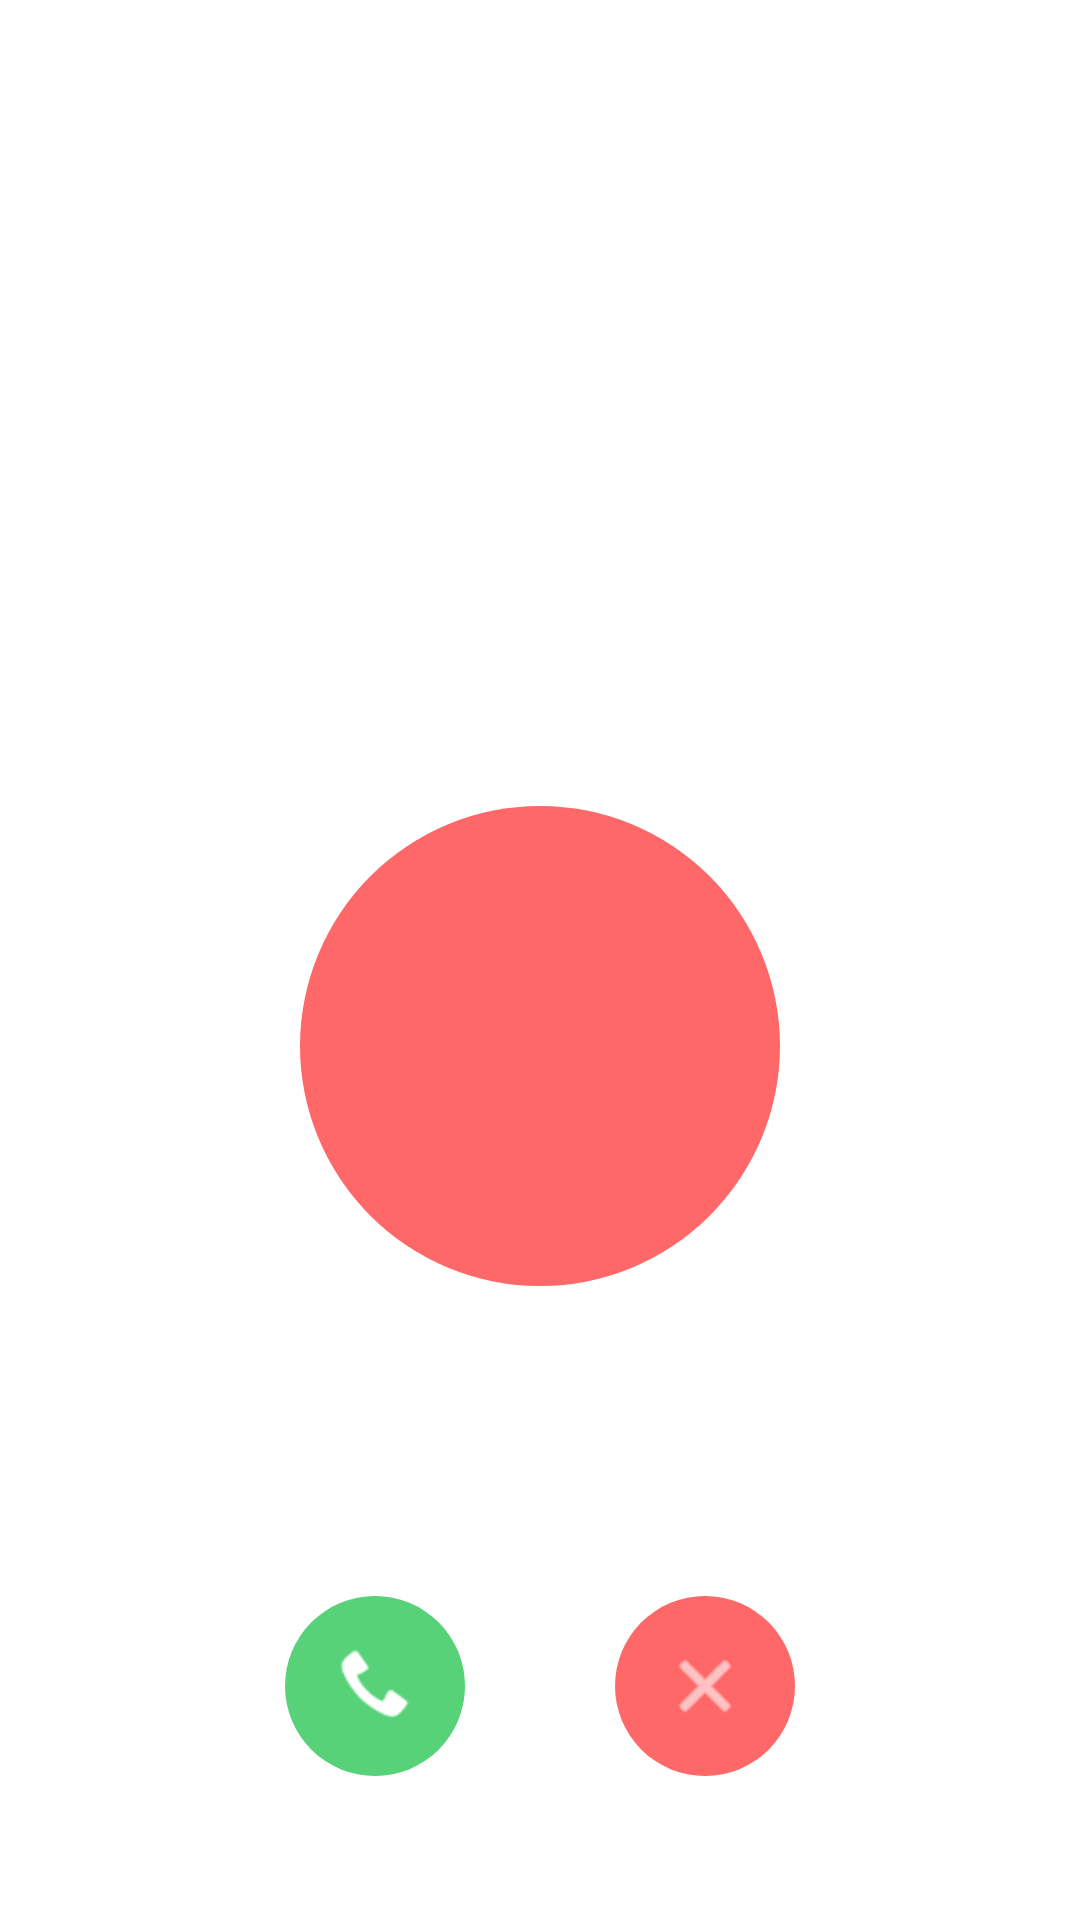

Named icons in this screenshot (1080px×1920px) and their bounding boxes, [left=x1, top=y1, right=x2, bottom=y2]:
Decline: [left=615, top=1596, right=795, bottom=1776]
